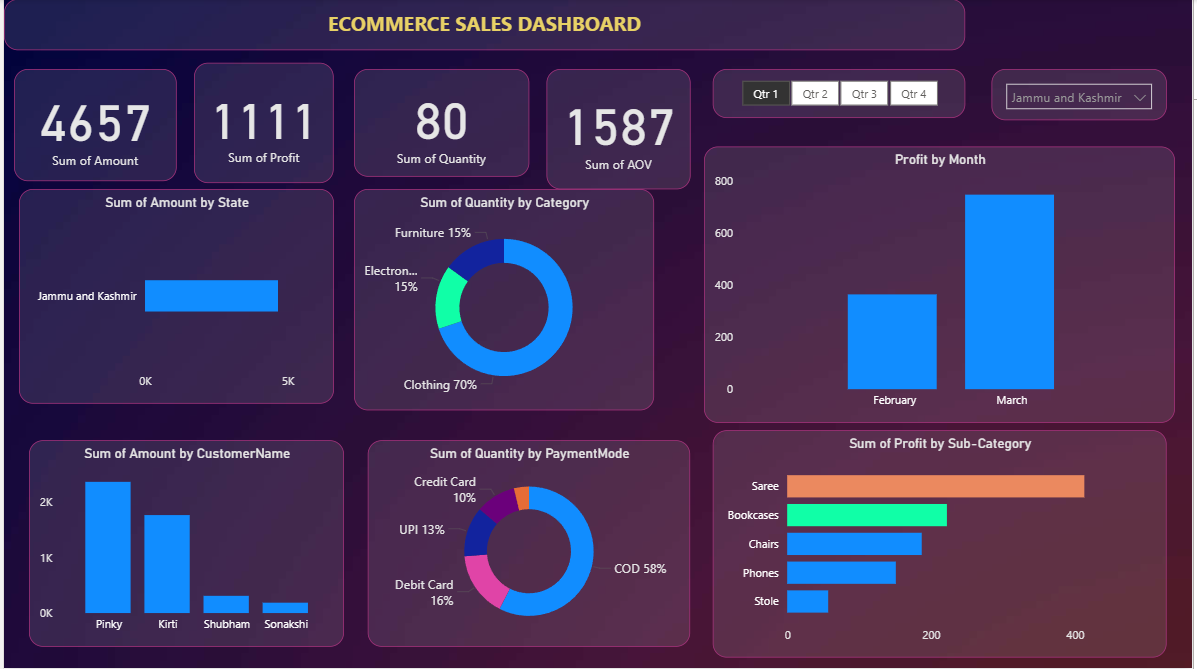

What the dashboard file says about the page in this screenshot:
{"tool":"powerbi","page":{"name":"Page 1","canvas":[1280,720],"ordinal":0},"visuals":[{"type":"textbox","box":[0,0,1035.3,55.2],"z":0},{"type":"columnChart","title":"Profit by Month","fields":{"Category":["Orders.Order Date.Variation.Date Hierarchy.Month"],"Y":["Details.Profit"]},"box":[753.9,158.9,507.5,297.5],"z":1000},{"type":"barChart","fields":{"Category":["Details.Sub-Category"],"Y":["Details.Profit"]},"box":[763.3,464.5,488.7,245],"z":2000},{"type":"donutChart","fields":{"Y":["Details.Quantity"],"Category":["Details.PaymentMode"]},"box":[391.8,475.2,347.3,222.1],"z":3000},{"type":"donutChart","fields":{"Y":["Details.Quantity"],"Category":["Details.Category"]},"box":[376.9,204.6,323.1,238.3],"z":4000},{"type":"card","fields":{"Values":["Details.Amount"]},"box":[10.9,76,174.9,120.6],"z":5000},{"type":"card","fields":{"Values":["Details.Quantity"]},"box":[376.9,75.4,188.5,115.8],"z":6000},{"type":"card","fields":{"Values":["Details.Profit"]},"box":[204.6,68.7,150.8,129.2],"z":7000},{"type":"card","fields":{"Values":["Details.AOV"]},"box":[584.3,75.4,154.8,129.2],"z":8000},{"type":"barChart","fields":{"Category":["Orders.State"],"Y":["Details.Amount"]},"box":[16.2,204.6,339.3,231.6],"z":9000},{"type":"columnChart","fields":{"Category":["Orders.CustomerName"],"Y":["Details.Amount"]},"box":[26.9,475.2,339.3,222.1],"z":10000},{"type":"slicer","fields":{"Values":["Orders.Order Date.Variation.Date Hierarchy.Quarter"]},"box":[763.3,75.4,271.9,52.5],"z":11000},{"type":"slicer","fields":{"Values":["Orders.State"]},"box":[1063.5,75.4,188.5,55.2],"z":12000}]}

Visuals, with their boxes in screenshot pixels (x1, y1, x2, y2), scaled from the page's 1280x720 canvas onto the 1197x669 screenshot:
textbox: detection(0, 0, 968, 51)
"Profit by Month" columnChart: detection(705, 148, 1180, 424)
barChart - Details.Sub-Category x Details.Profit: detection(714, 432, 1171, 659)
donutChart - Details.Quantity x Details.PaymentMode: detection(366, 442, 691, 648)
donutChart - Details.Quantity x Details.Category: detection(352, 190, 655, 412)
card - Details.Amount: detection(10, 71, 174, 183)
card - Details.Quantity: detection(352, 70, 529, 178)
card - Details.Profit: detection(191, 64, 332, 184)
card - Details.AOV: detection(546, 70, 691, 190)
barChart - Orders.State x Details.Amount: detection(15, 190, 332, 405)
columnChart - Orders.CustomerName x Details.Amount: detection(25, 442, 342, 648)
slicer - Orders.Order Date.Variation.Date Hierarchy.Quarter: detection(714, 70, 968, 119)
slicer - Orders.State: detection(995, 70, 1171, 121)
